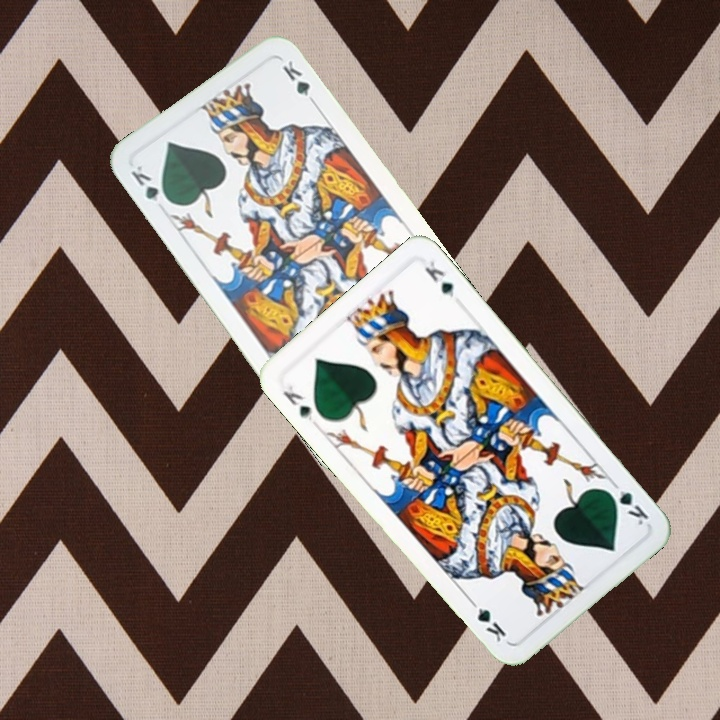GK: (127, 160, 174, 207), (602, 484, 652, 528), (279, 380, 315, 424)
